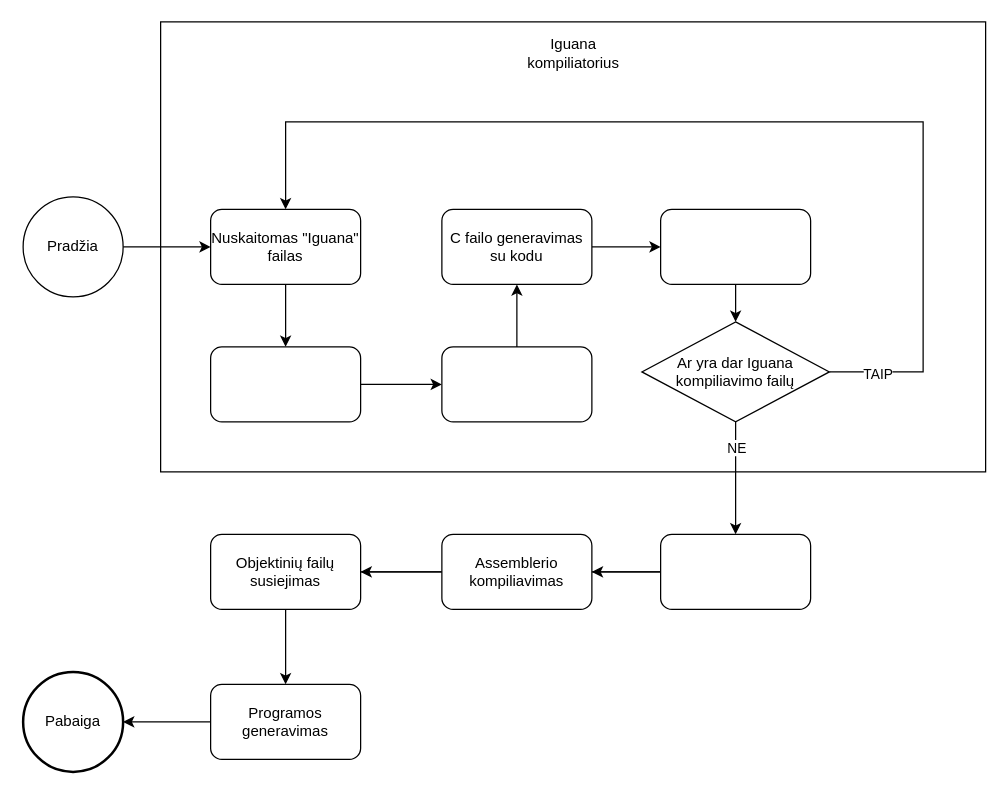
Some shapes in this 1008 by 795 pixel diagram are drawn without their labels. The box of each missing label's shape, as (x1, y1, x2, y2) in pixels:
Abstrakčios sintaksės medžio generavimas: (441, 346, 592, 422)
C failų kompiliavimas: (659, 533, 811, 609)
Simbolių atpažinimas: (209, 346, 361, 422)
Tarpinių failų išvalymas: (659, 208, 811, 284)
